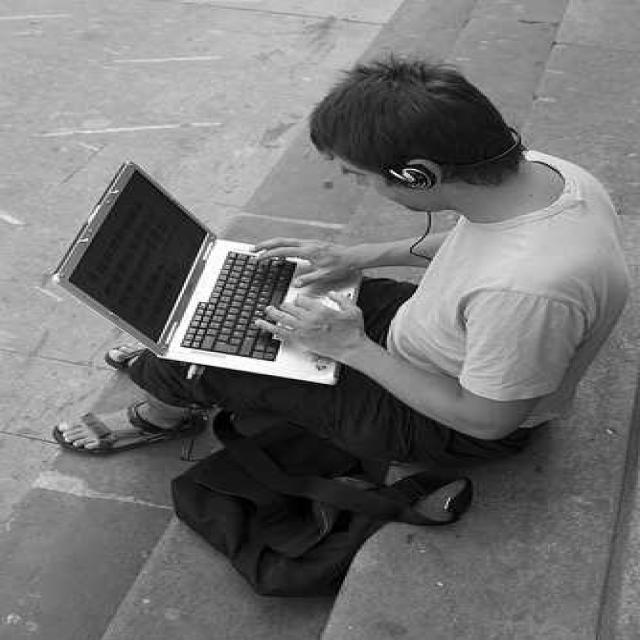laptop: (36, 191, 348, 379)
